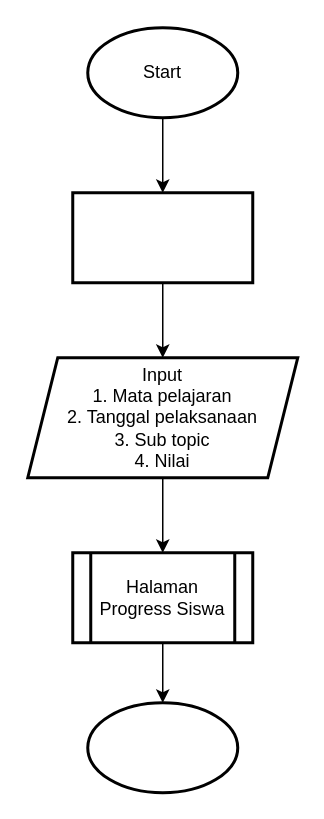
This 324x819 diagram has some shape labels left out. Each missing label, with the centre of its shape:
Pilih Siswa: point (162, 237)
Selesai: point (162, 747)
